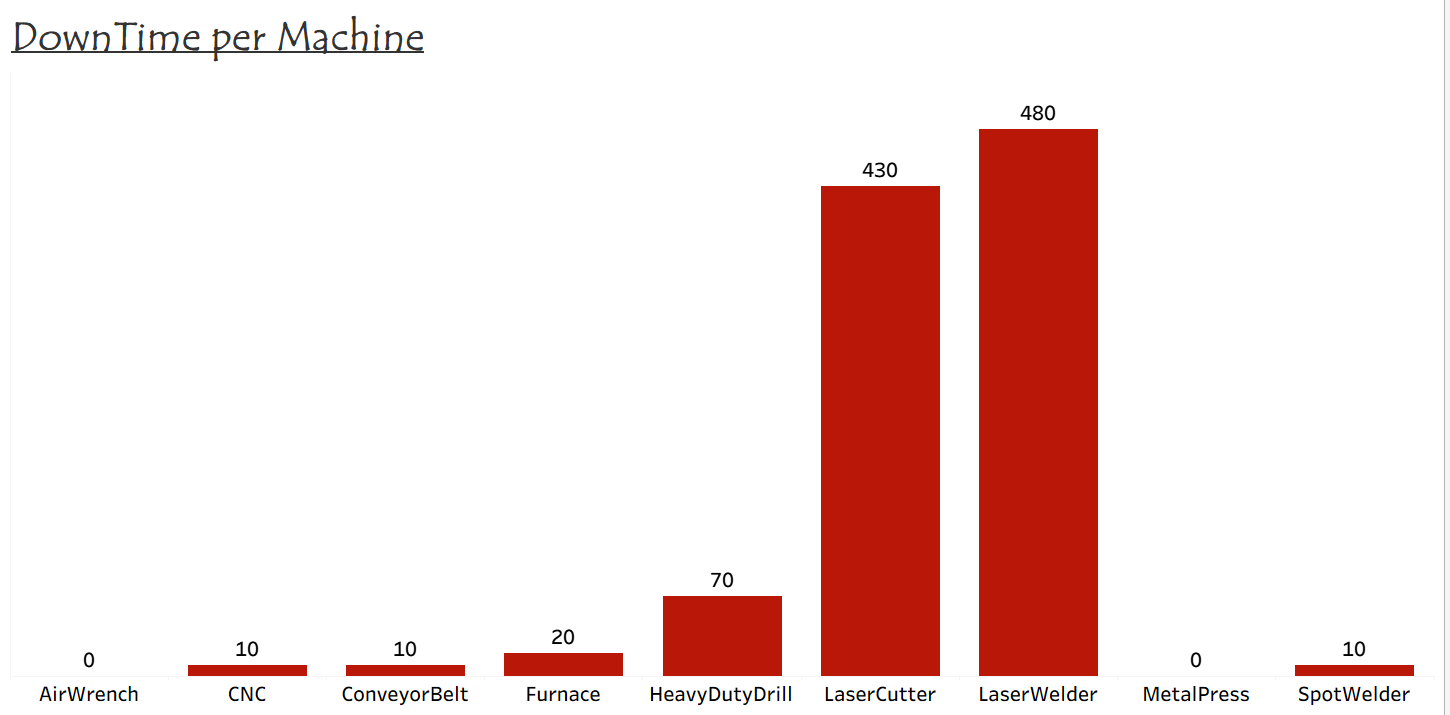

The page's visual inventory and layout, read from the dashboard file:
{"tool":"tableau","page":{"name":"DownTime Analysis","canvas":[1000,1000],"units":"permille","ordinal":0},"visuals":[{"type":"worksheet","title":"DownTime per Machine","mark":"Automatic","rows":["Calculation_296674640460398592"],"cols":["deviceType"],"box":[0,443.2,997.6,530.6]}]}

Visuals, with their boxes on the dashboard's canvas, which has no fixed pixel size, in thousandths of its width and height (x1, y1, x2, y2). These are canvas units, not pixel positions in the 1450x715 screenshot, which may show the page scaled, cropped or inside an application window:
"DownTime per Machine" worksheet: 0 443 998 974
